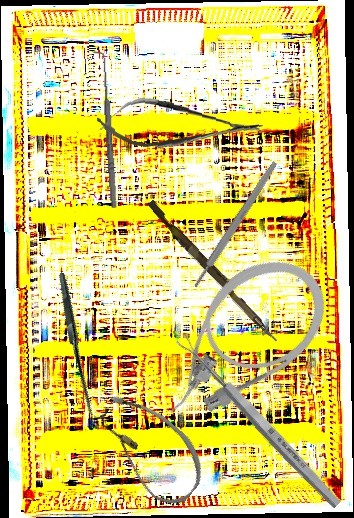Cannula: (128, 236, 348, 441), (80, 382, 218, 515)
Hook Surgical: (8, 271, 156, 422), (92, 49, 120, 210)
Micro Scissor: (95, 94, 265, 157)
Pusher: (143, 199, 284, 344)
Scalpel Handle: (190, 159, 280, 290)
Surgical Spoon: (174, 331, 344, 511)
